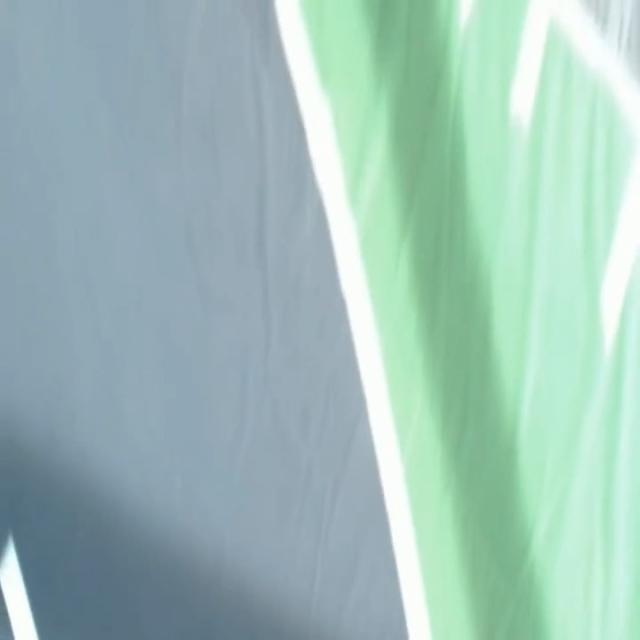center: (0, 536, 38, 639)
right: (276, 0, 430, 639)
